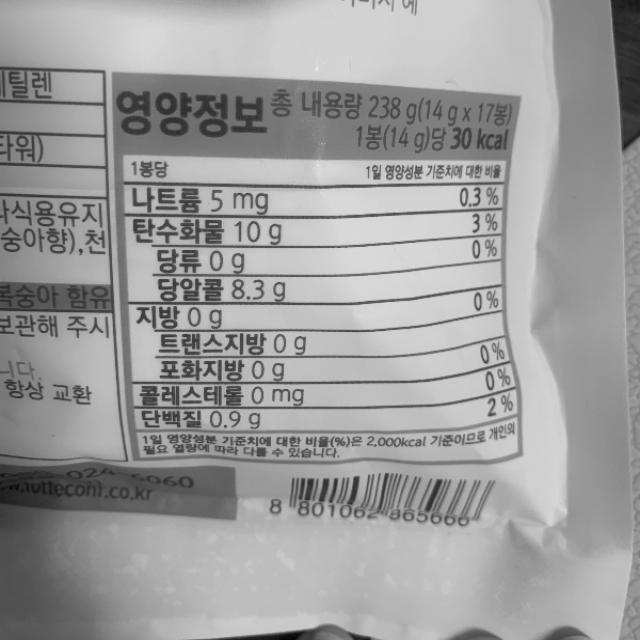Nutrition Label: (112, 70, 537, 470)
